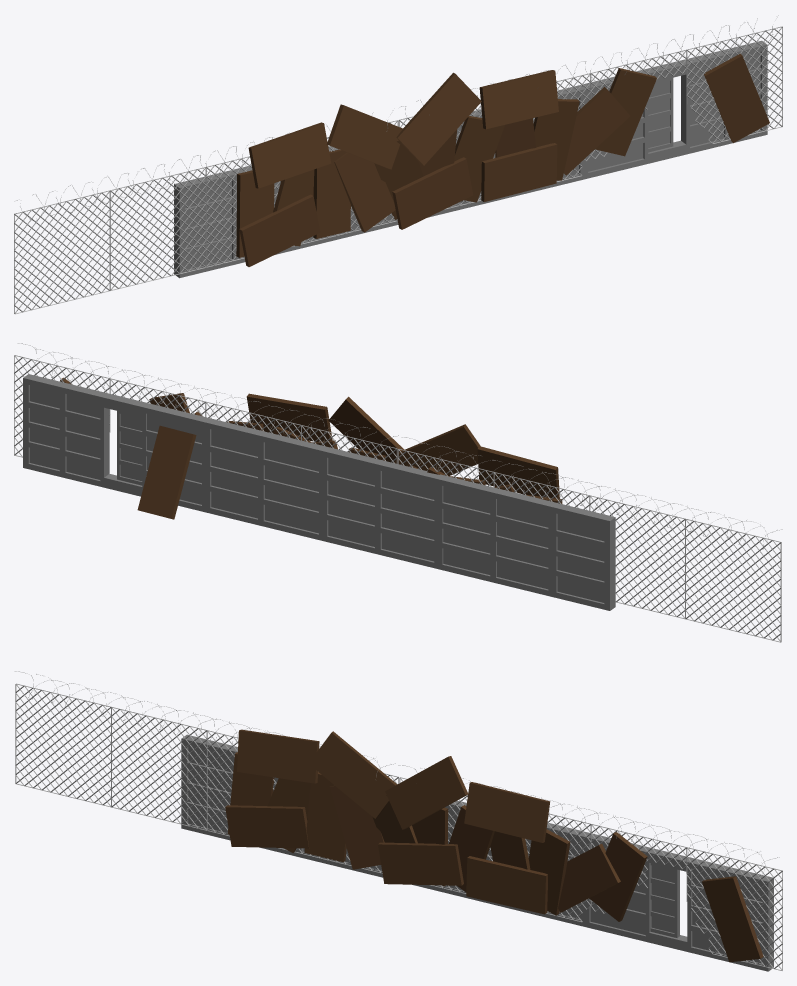
File: terra_puertafbx.fbx
3 renders of one model, top to bottom at view 1: azimuth 30°, elevation 25°; view 2: azimuth 150°, elevation 25°; view 3: azimuth 330°, elevation 25°, orthographic.
Parts seen in each view (by area): view 1: suelo.010, valla.003, Cube.023, suelo.006, suelo.009, suelo.008, Cube.022; view 2: Cube.023, valla.003, suelo.010, suelo.005, Cube.022; view 3: suelo.010, valla.003, Cube.023, suelo.006, suelo.009, suelo.008, Cube.022.
Boxes of the visible parts, bbox=[...] form: suelo.010: bbox=[236, 70, 579, 266]; valla.003: bbox=[14, 15, 782, 314]; Cube.023: bbox=[174, 40, 767, 278]; suelo.006: bbox=[704, 53, 769, 143]; suelo.009: bbox=[564, 87, 629, 175]; suelo.008: bbox=[595, 68, 656, 156]; Cube.022: bbox=[648, 78, 673, 152]; Cube.023: bbox=[23, 374, 615, 610]; valla.003: bbox=[14, 343, 782, 642]; suelo.010: bbox=[227, 393, 562, 503]; suelo.005: bbox=[137, 425, 196, 519]; Cube.022: bbox=[117, 411, 142, 485]; suelo.010: bbox=[225, 729, 570, 915]; valla.003: bbox=[14, 671, 782, 970]; Cube.023: bbox=[181, 734, 773, 971]; suelo.006: bbox=[702, 876, 763, 962]; suelo.009: bbox=[558, 844, 620, 912]; suelo.008: bbox=[589, 832, 647, 921]; Cube.022: bbox=[650, 863, 679, 937].
Bounding box in the file's own units: 5545 × 974 × 518.
